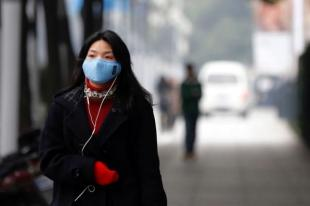face_mask: (83, 40, 117, 82)
